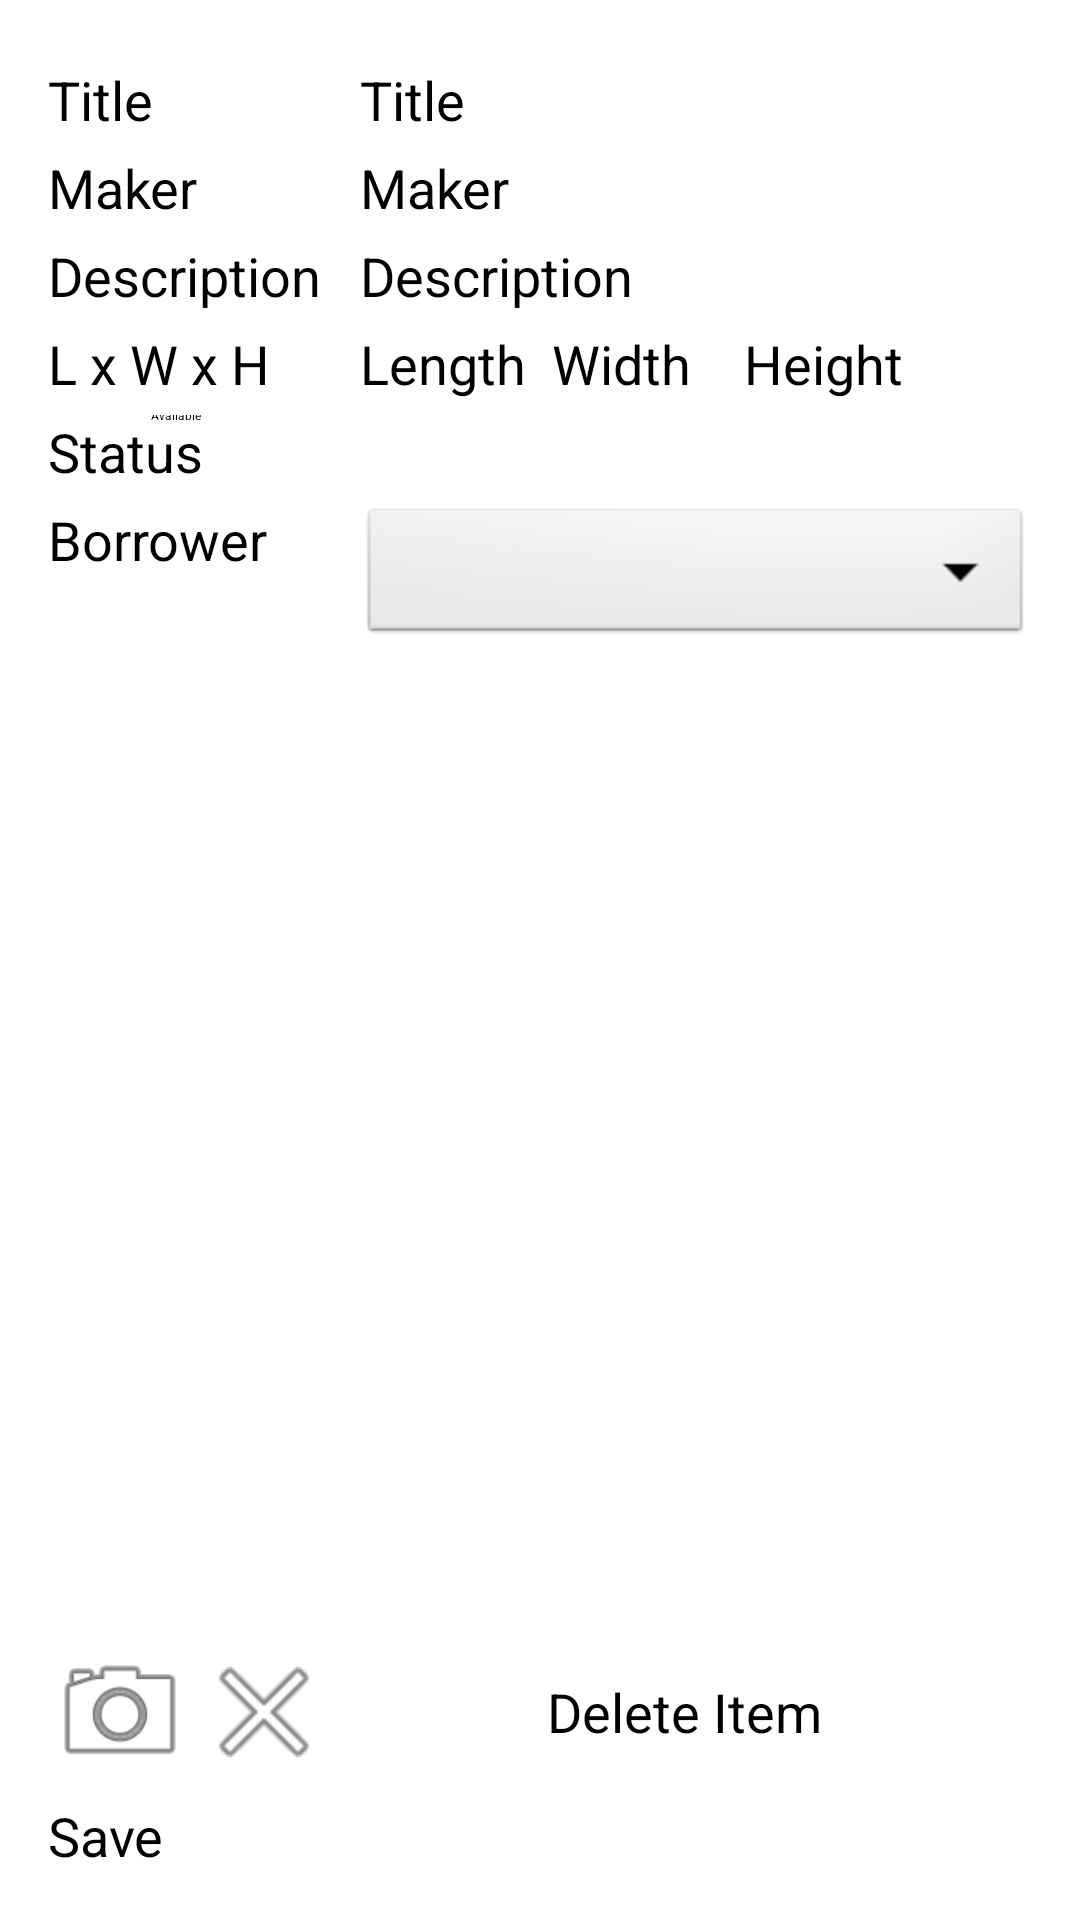

Named icons in this screenshot (1080px×1920px) and their centers, [x,y]:
camera: [120,1709]
close clear cancel: [264,1712]
